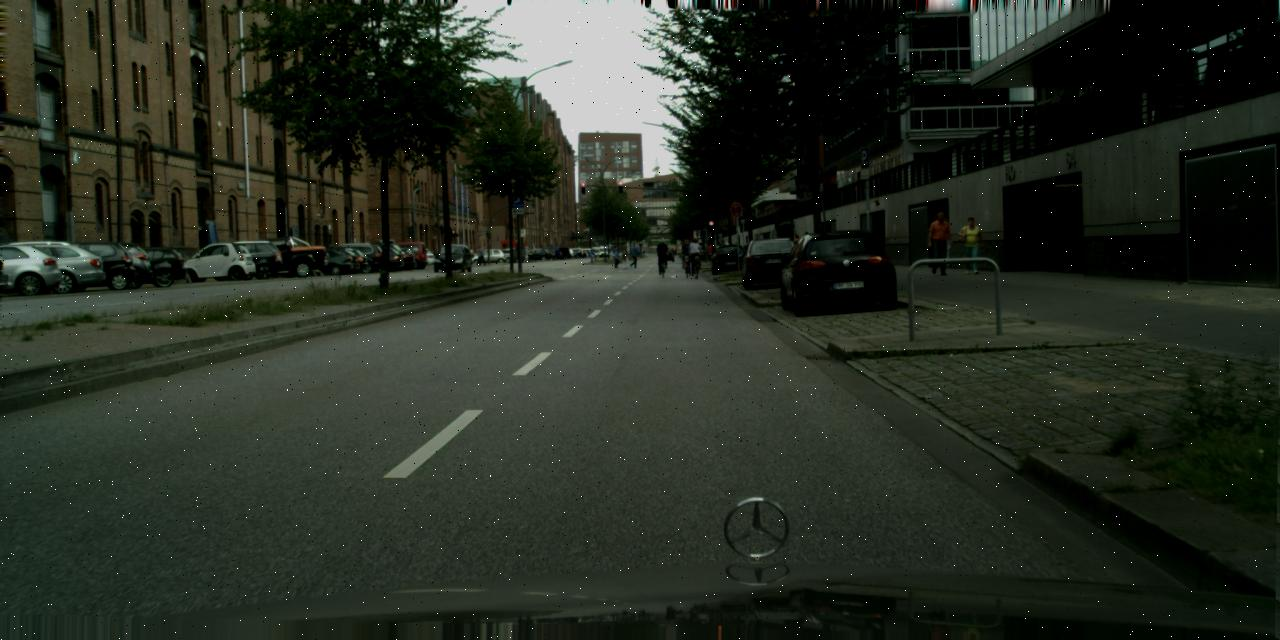ped: (926, 212, 952, 274), (959, 217, 982, 273), (688, 238, 701, 272), (656, 238, 668, 270), (680, 239, 690, 265), (801, 231, 811, 256), (629, 243, 638, 268), (619, 245, 629, 267), (791, 234, 800, 257), (612, 246, 620, 268), (476, 245, 484, 264), (718, 237, 733, 245), (746, 243, 749, 251), (478, 248, 480, 258), (741, 245, 743, 247)
